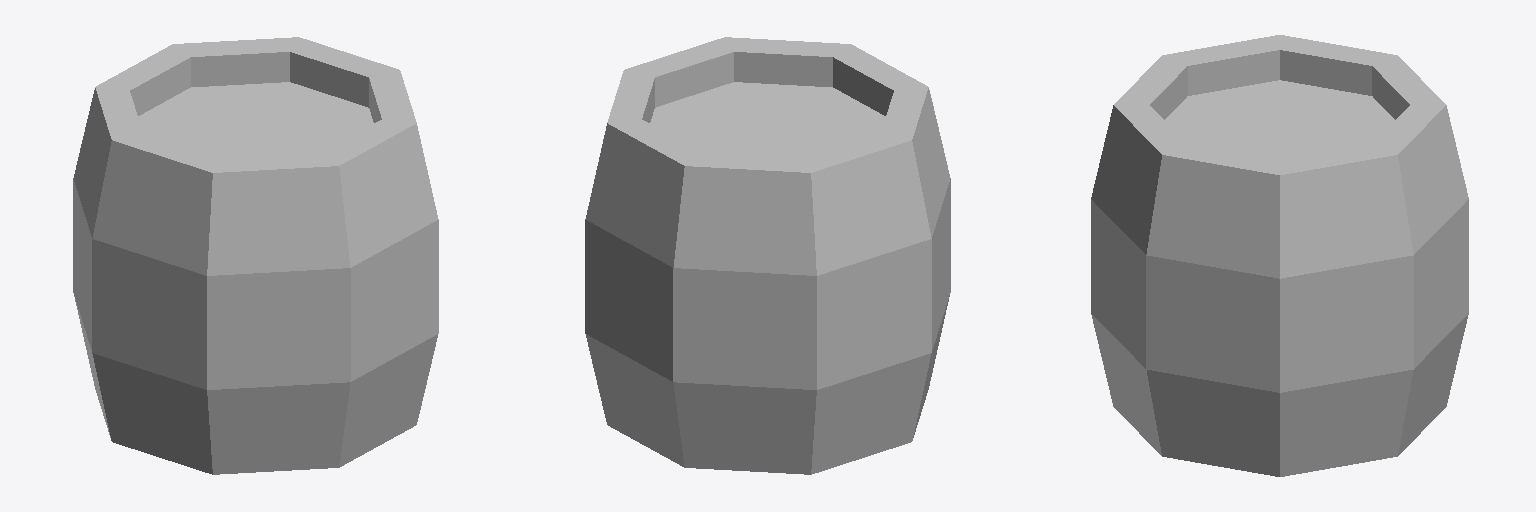
Rendered from barrel.obj.
3 renders of one model, left to right at view 1: azimuth 30°, elevation 25°; view 2: azimuth 150°, elevation 25°; view 3: azimuth 270°, elevation 25°, orthographic.
Visible parts, largest first — view 1: Cylinder; view 2: Cylinder; view 3: Cylinder.
Boxes of the visible parts, <box> form: Cylinder: <box>73,37,438,474</box>; Cylinder: <box>585,37,950,474</box>; Cylinder: <box>1091,35,1468,476</box>.
Bounding box in the file's own units: 2.27 × 2 × 2.27.